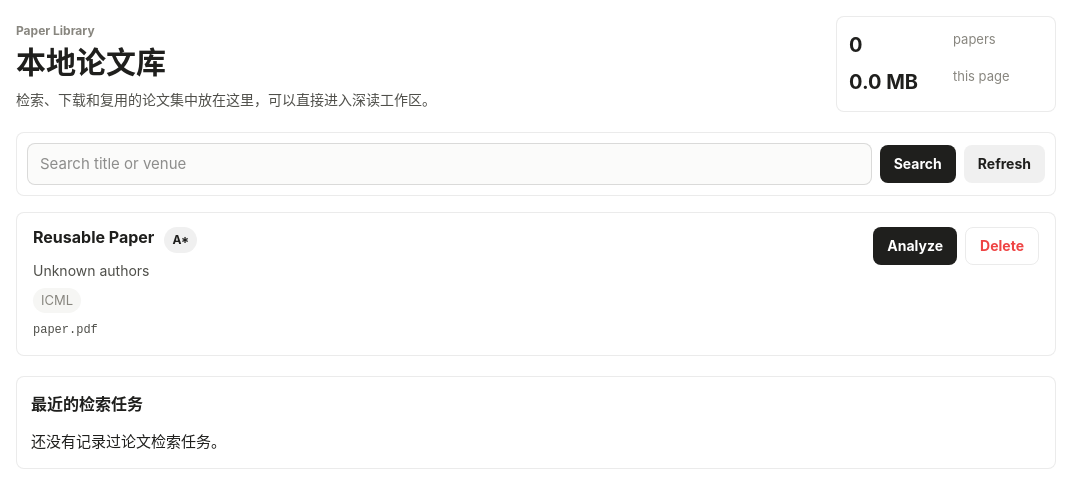
Test: LibraryView › searches and deletes a paper
In the field with test id "library-query": (449, 164) [27, 143, 872, 185], type "graph"
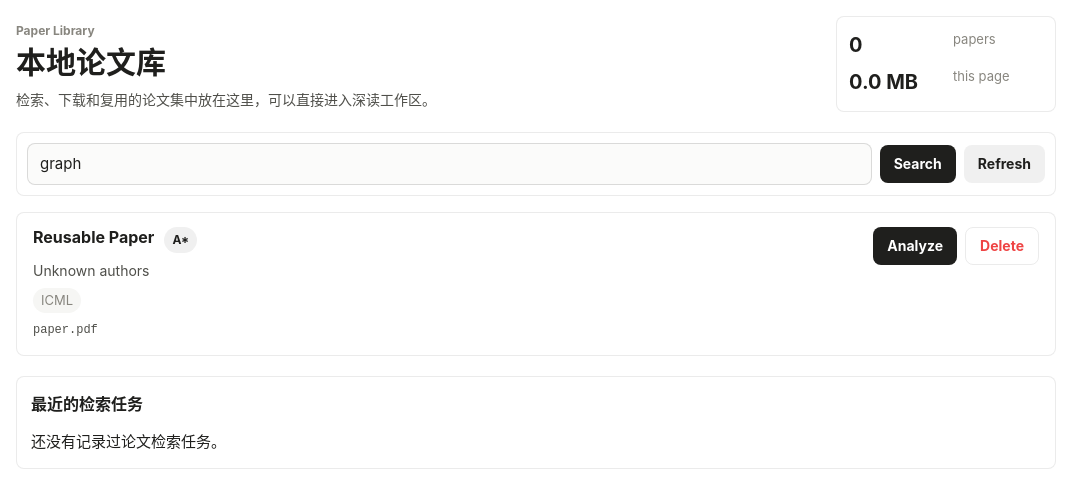
Submit the form, box [16, 132, 1056, 196]
Click the button with test id "delete-library-paper": (1002, 246) [965, 227, 1039, 265]
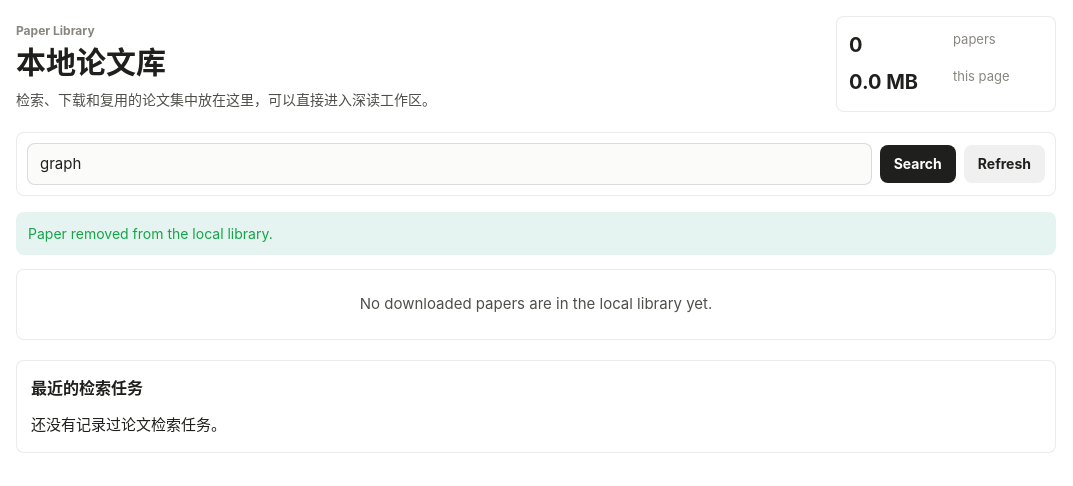
Expected: the text "Paper removed" is shown, [28, 225, 273, 242]
